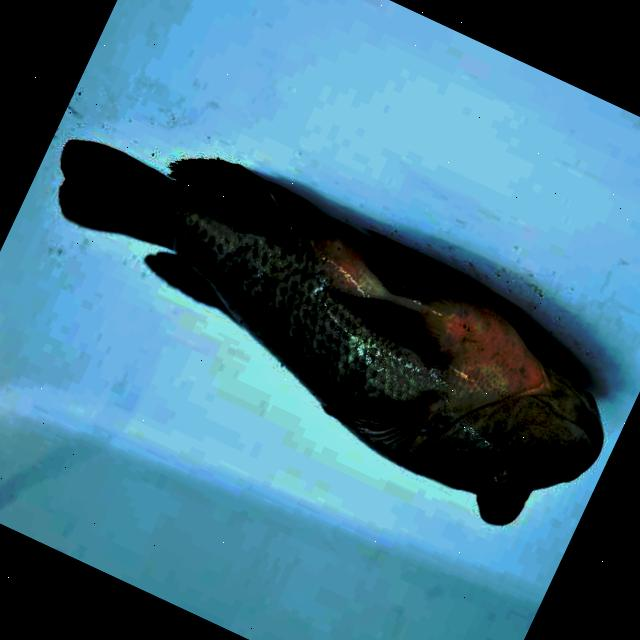Streptococcus: (59, 140, 603, 524), (59, 140, 602, 524)
